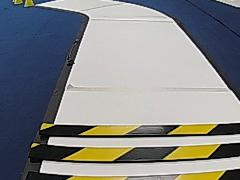bump: (26, 115, 239, 172)
